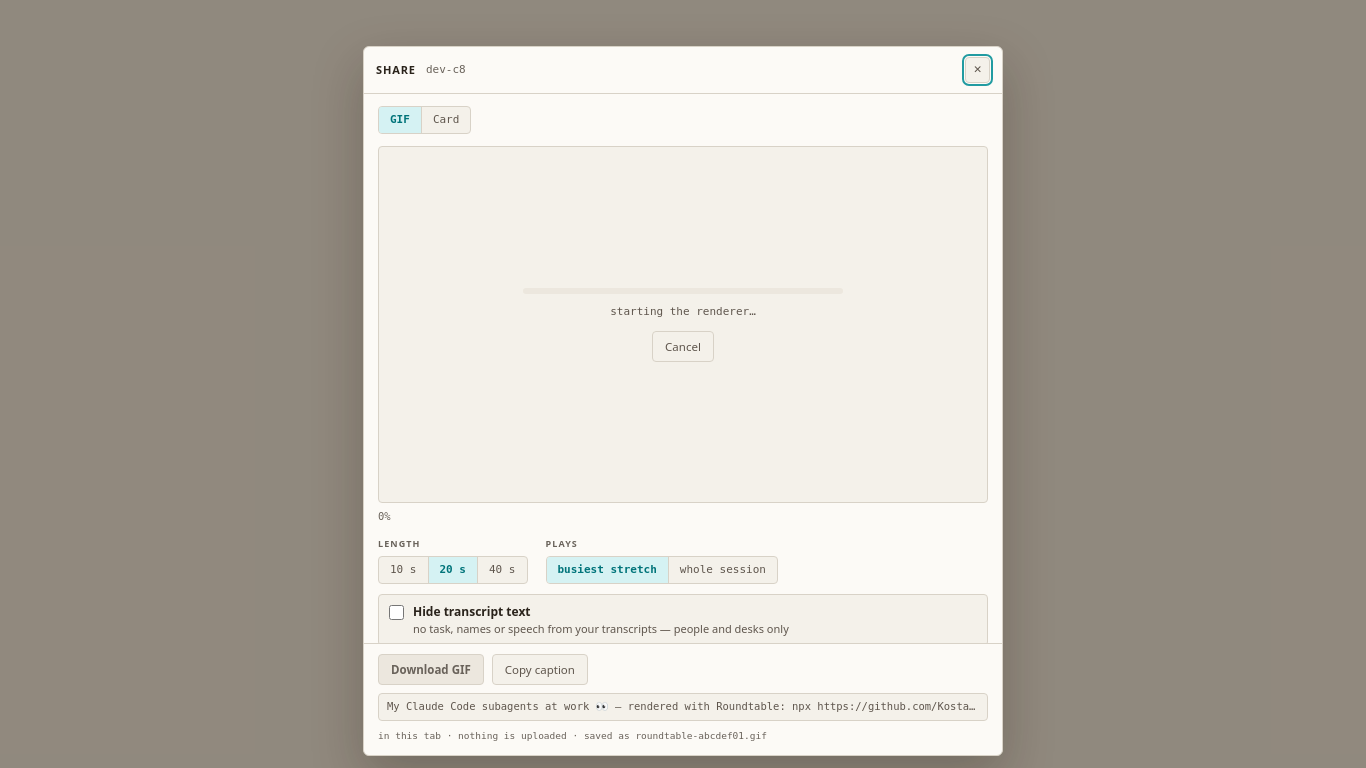
Test case: the caption › says so, and points at the line itself, when the browser refuses
This screenshot has width=1366, height=768.
Click the button "Copy caption". click: [540, 669]
box: [492,654,588,685]
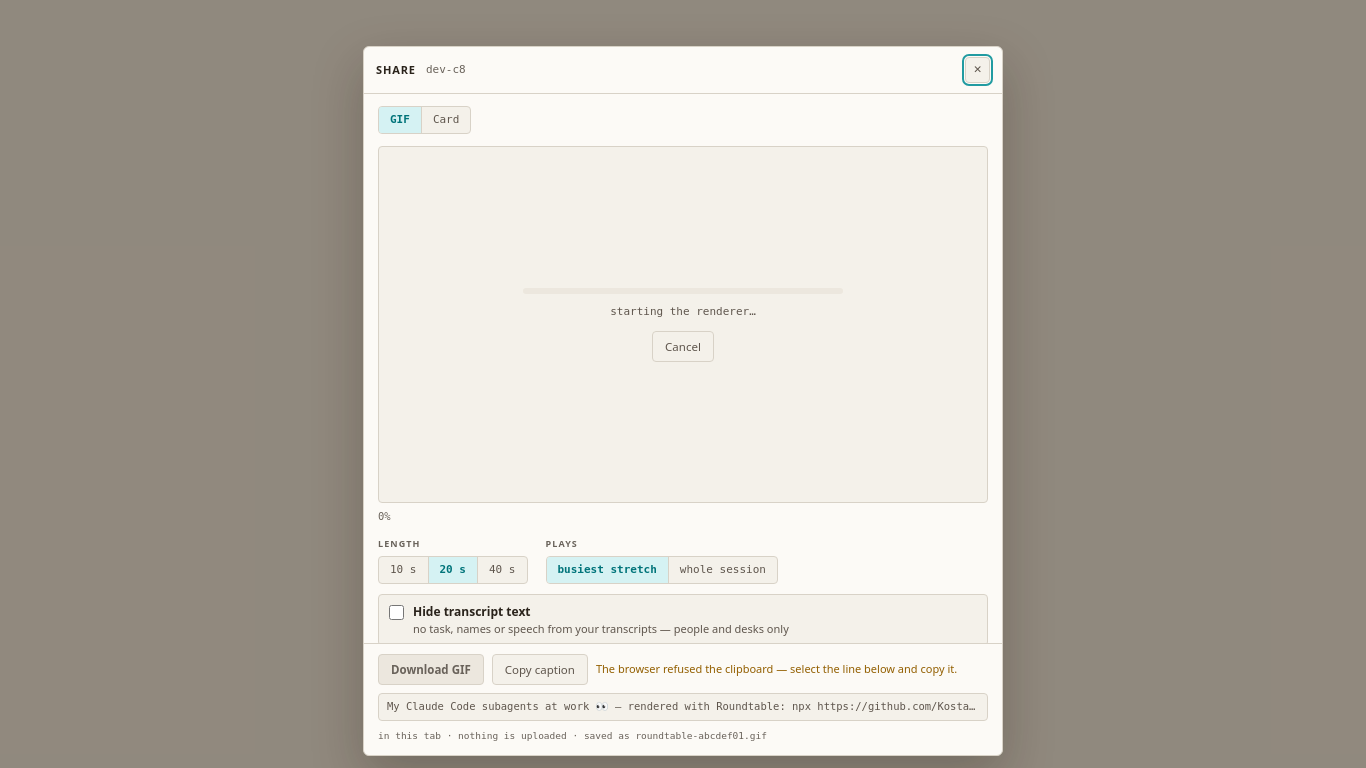
Expected: the text "refused the clipboard" is shown, [596,661,957,676]
